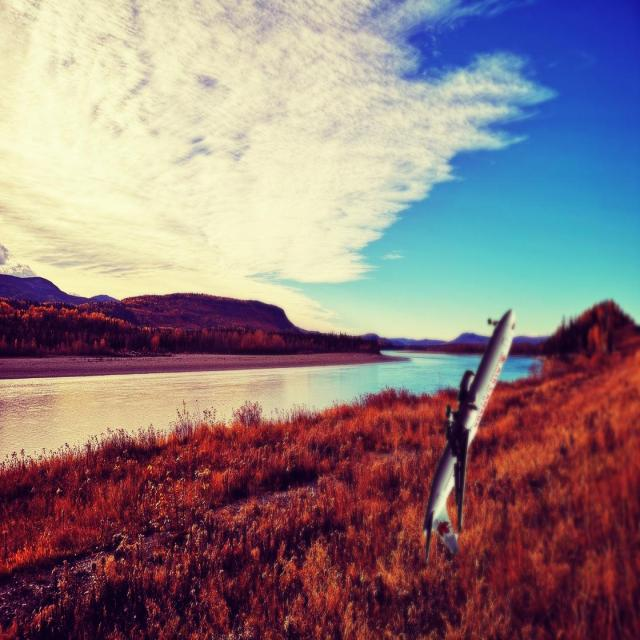airplane: (422, 308, 516, 566)
